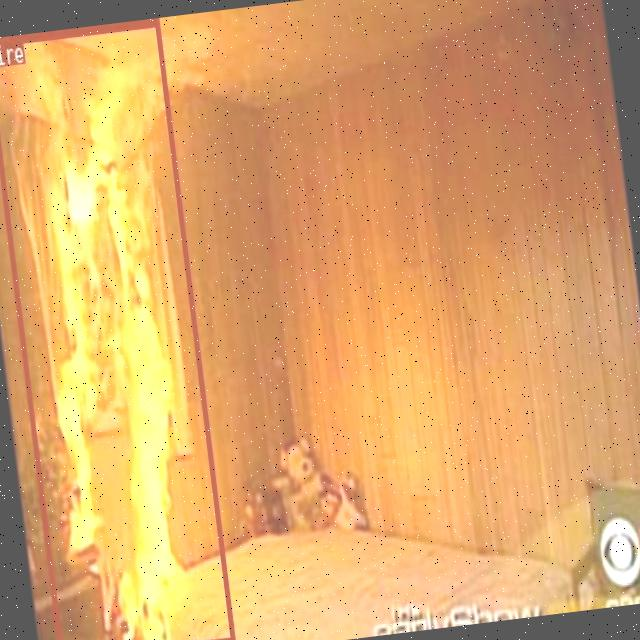fire: (0, 17, 235, 640)
